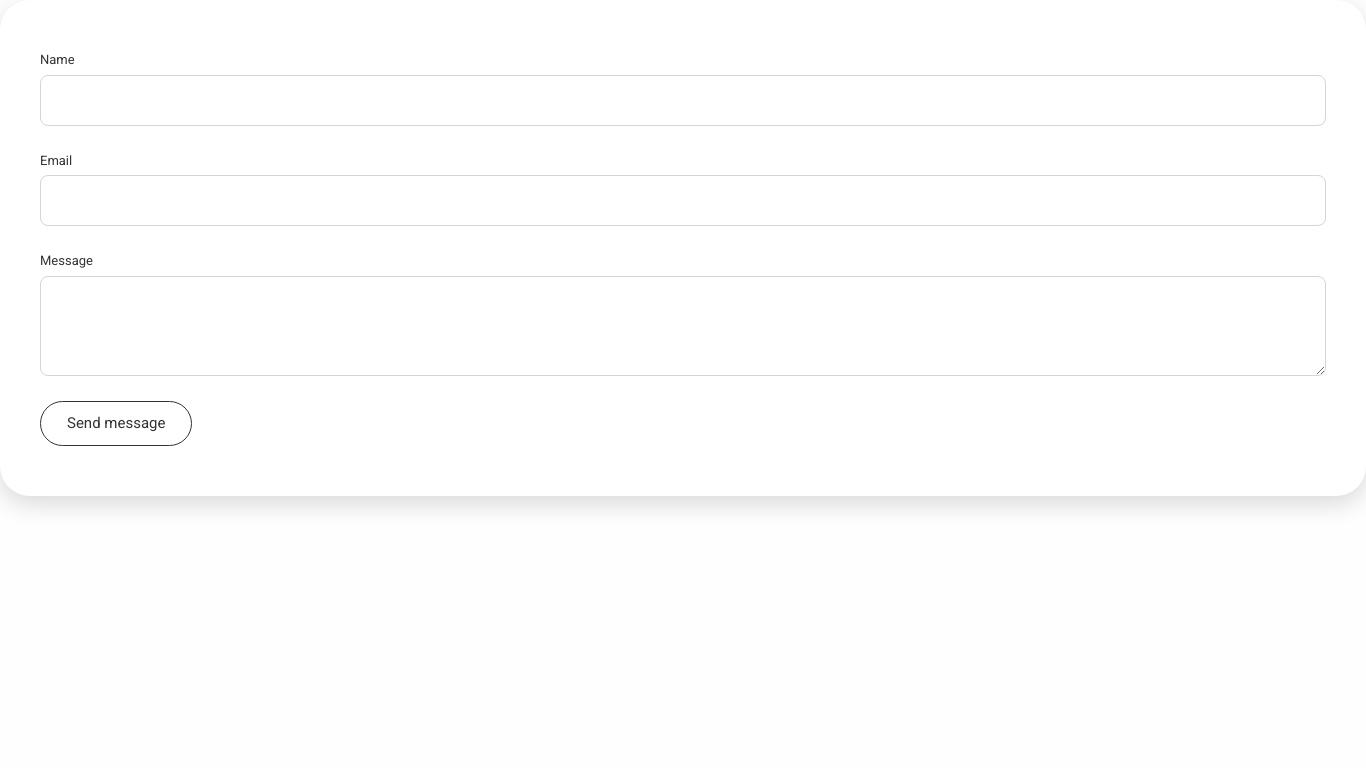
Test: Form › form interaction › should handle network errors
The image size is (1366, 768).
Type "John Doe" into the field labelled "Name" at [683, 100], box [40,74,1326,126]
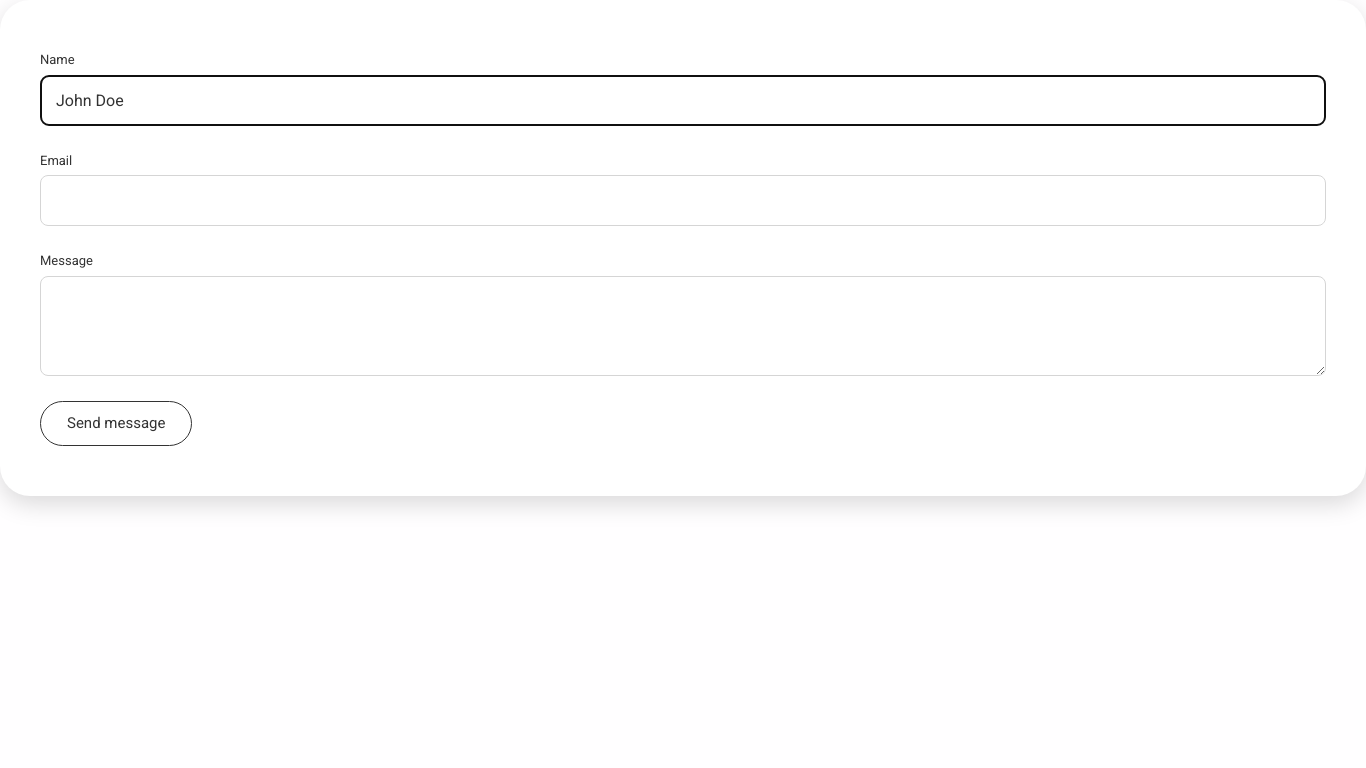
Type "john@example.com" into the field labelled "Email" at [683, 200], box [40,175,1326,226]
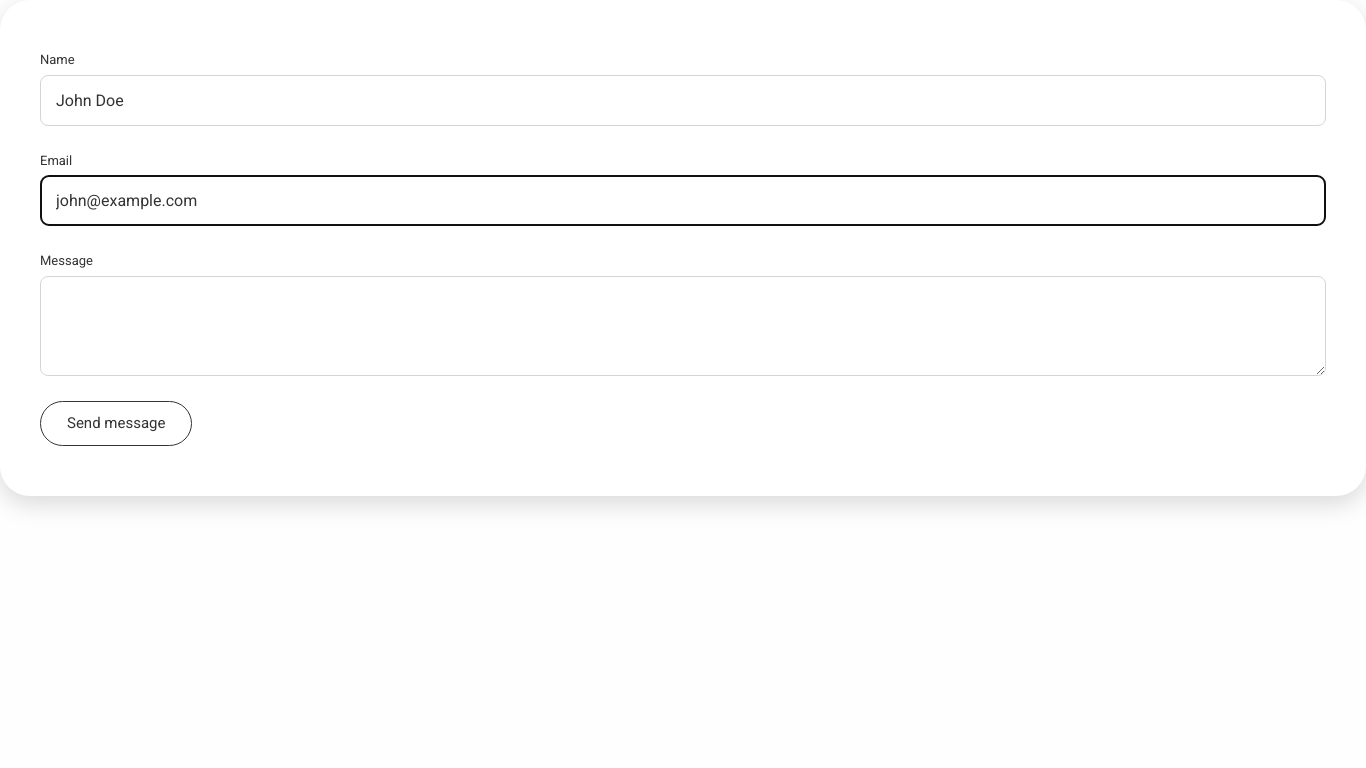
Type "Test message here" into the text box labelled "Message" at [683, 326], box [40,276,1326,376]
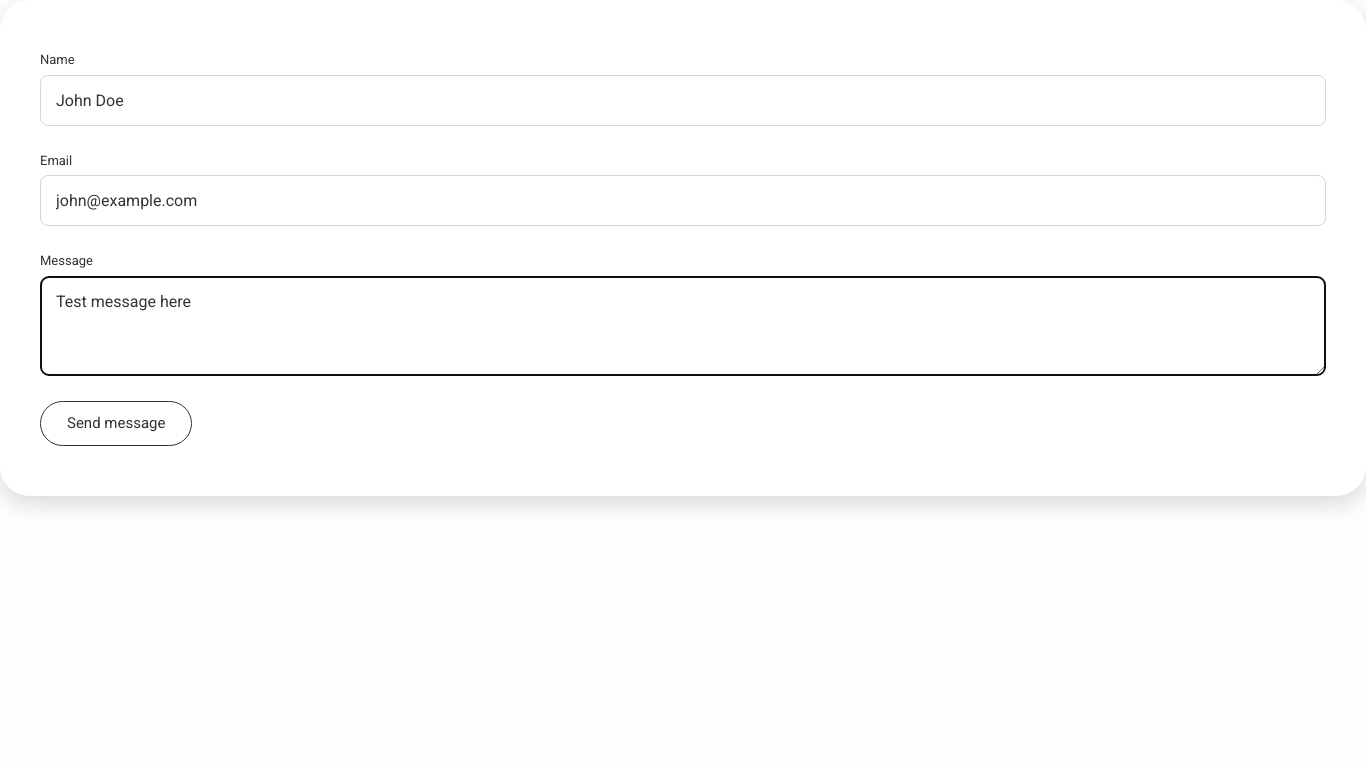
Click the button "Send message" at [116, 423], box [40,400,192,446]
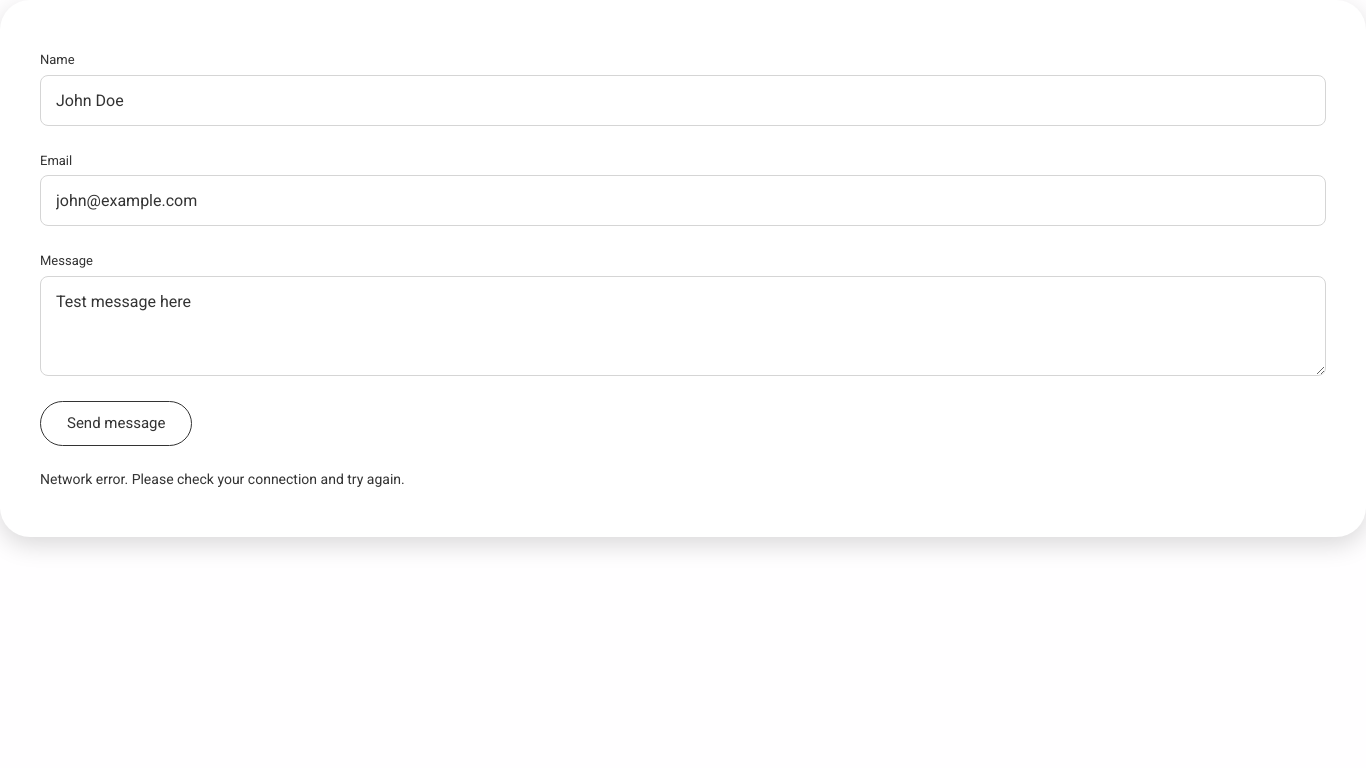
Expected: the text "Network error. Please check your connection and try again." is shown, [40,470,405,486]
